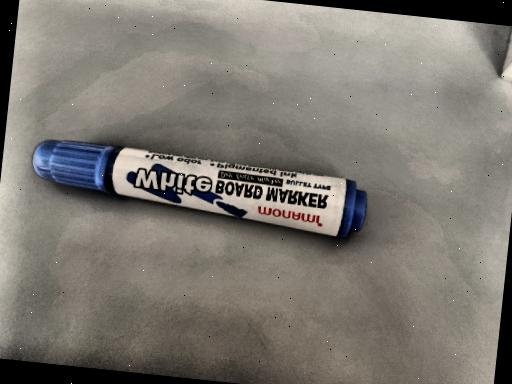marcador azul: (33, 140, 366, 236)
